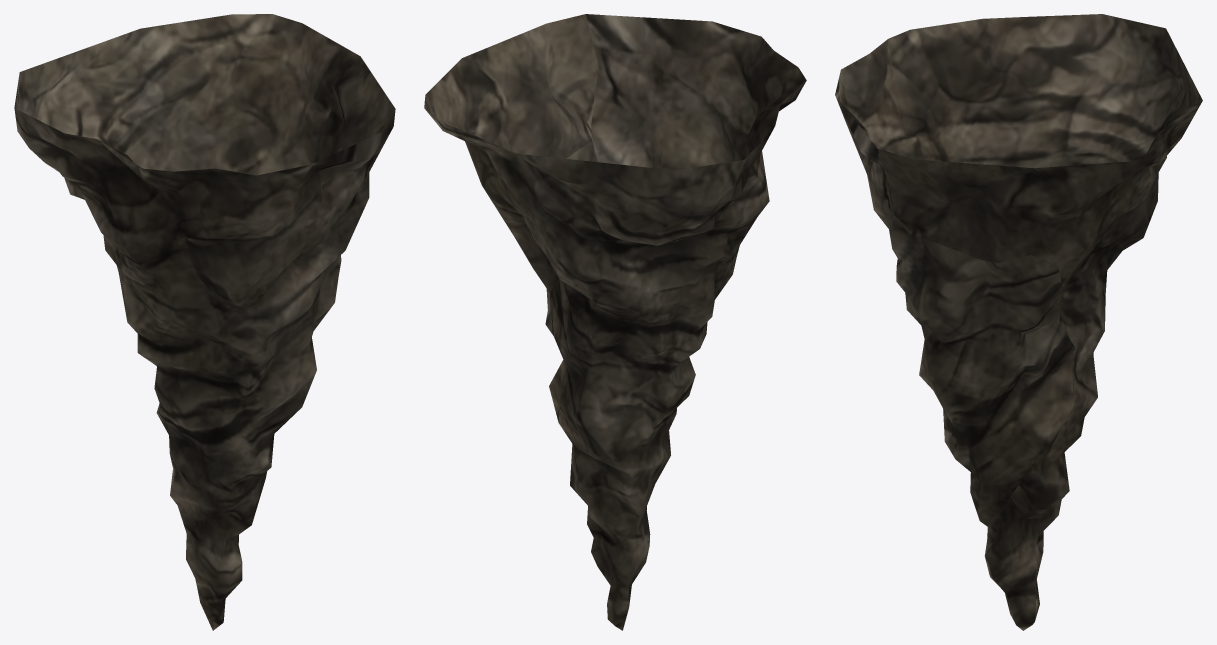
The model's file is MEP_C_Stalagmite_04_N.fbx.
The picture shows the model from 3 angles, left to right: view 1: azimuth 30°, elevation 25°; view 2: azimuth 150°, elevation 25°; view 3: azimuth 270°, elevation 25°; orthographic projection.
Visible parts, largest first — view 1: MEP_C_Stalagmite_04; view 2: MEP_C_Stalagmite_04; view 3: MEP_C_Stalagmite_04.
Boxes of the visible parts, <box> form: MEP_C_Stalagmite_04: <box>14,14,395,630</box>; MEP_C_Stalagmite_04: <box>424,14,806,630</box>; MEP_C_Stalagmite_04: <box>835,14,1202,630</box>.
Size of what is drawn, in the model's own units: 126 by 208 by 127.
1 material, 1 textured.
